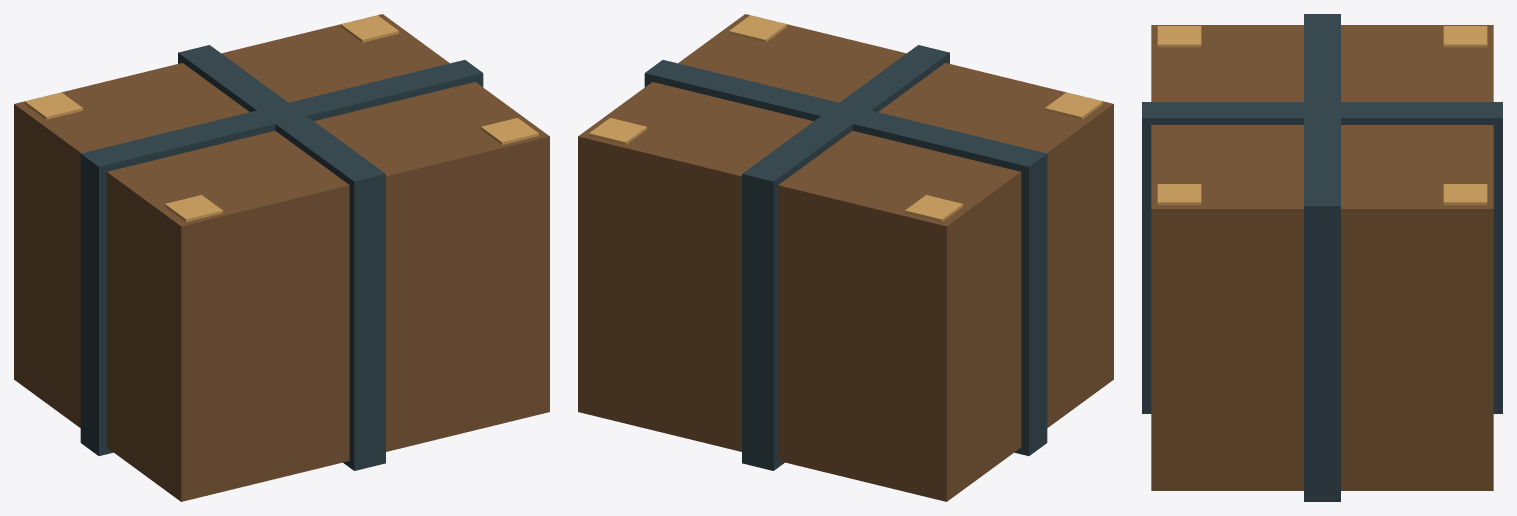
The model's file is crate.glb.
3 renders of one model, left to right at view 1: azimuth 30°, elevation 25°; view 2: azimuth 150°, elevation 25°; view 3: azimuth 270°, elevation 25°, orthographic. The views are drawn at different scales.
Parts seen in each view (by area): view 1: crate_body, strap_h, strap_v, corner_bracket (×4); view 2: crate_body, strap_h, strap_v, corner_bracket (×4); view 3: crate_body, strap_h, strap_v, corner_bracket (×4).
Part boxes in pixels (bbox=[...]): crate_body: bbox=[14, 14, 549, 501]; strap_h: bbox=[80, 60, 483, 455]; strap_v: bbox=[178, 45, 385, 470]; corner_bracket (×4): bbox=[25, 15, 538, 221]; crate_body: bbox=[578, 14, 1113, 501]; strap_h: bbox=[644, 60, 1047, 455]; strap_v: bbox=[742, 45, 949, 470]; corner_bracket (×4): bbox=[589, 15, 1102, 221]; crate_body: bbox=[1151, 25, 1493, 490]; strap_h: bbox=[1304, 14, 1340, 501]; strap_v: bbox=[1142, 102, 1502, 413]; corner_bracket (×4): bbox=[1157, 26, 1487, 204].
Bounding box in the file's own units: 1.46 × 1.05 × 1.16.
